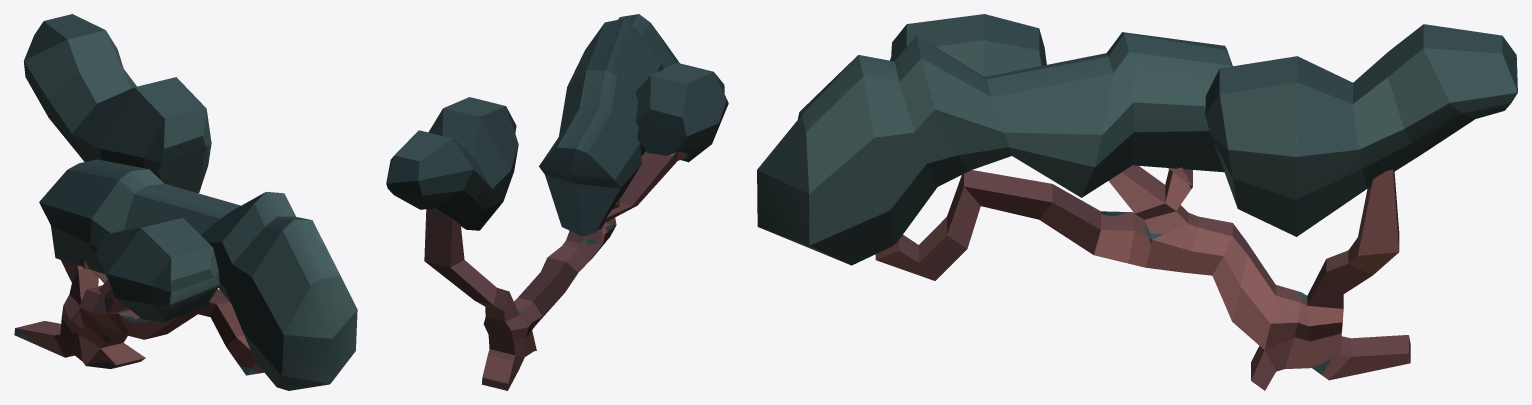
Rendered from Mastic1.obj.
The picture shows the model from 3 angles, left to right: view 1: azimuth 30°, elevation 25°; view 2: azimuth 150°, elevation 25°; view 3: azimuth 270°, elevation 25°; orthographic projection. The views are drawn at different scales.
Parts seen in each view (by area): view 1: Mastic1; view 2: Mastic1; view 3: Mastic1.
Part boxes in pixels (x1,y1,x2,y2): Mastic1: (14, 14, 357, 390); Mastic1: (386, 14, 728, 390); Mastic1: (757, 14, 1517, 390).
Size of the model in its own units: 4.98 by 6.18 by 11.76.
Materials: 2 (2 with a texture image).
